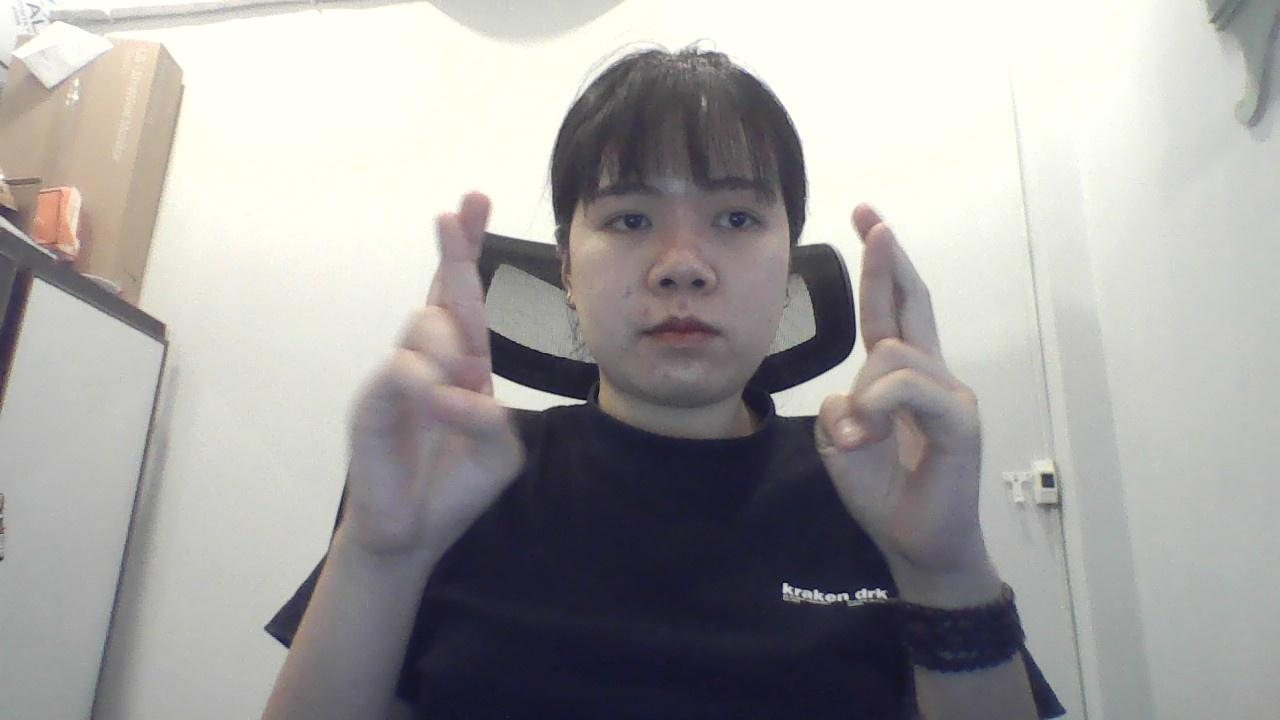R: (322, 184, 529, 618), (801, 172, 1006, 597)
